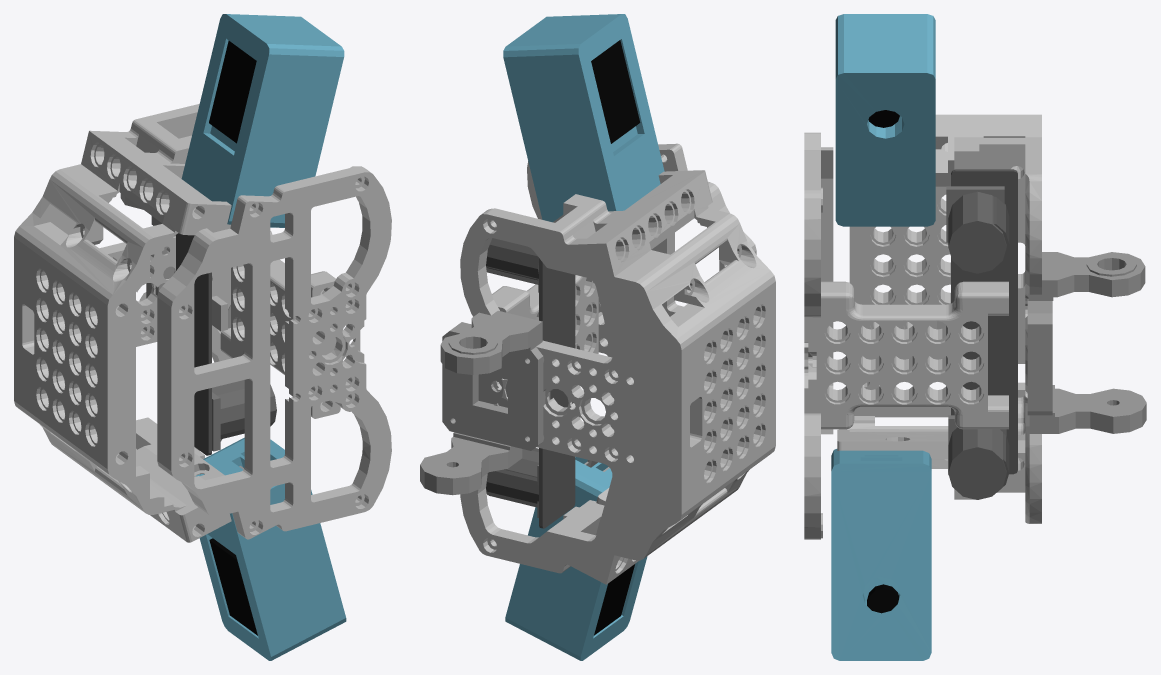
The model's file is head-neck-p.glb.
The picture shows the model from 3 angles, left to right: view 1: azimuth 30°, elevation 25°; view 2: azimuth 150°, elevation 25°; view 3: azimuth 270°, elevation 25°; orthographic projection. The views are drawn at different scales.
Bounding box in the file's own units: 0.0742 × 0.1666 × 0.082.
